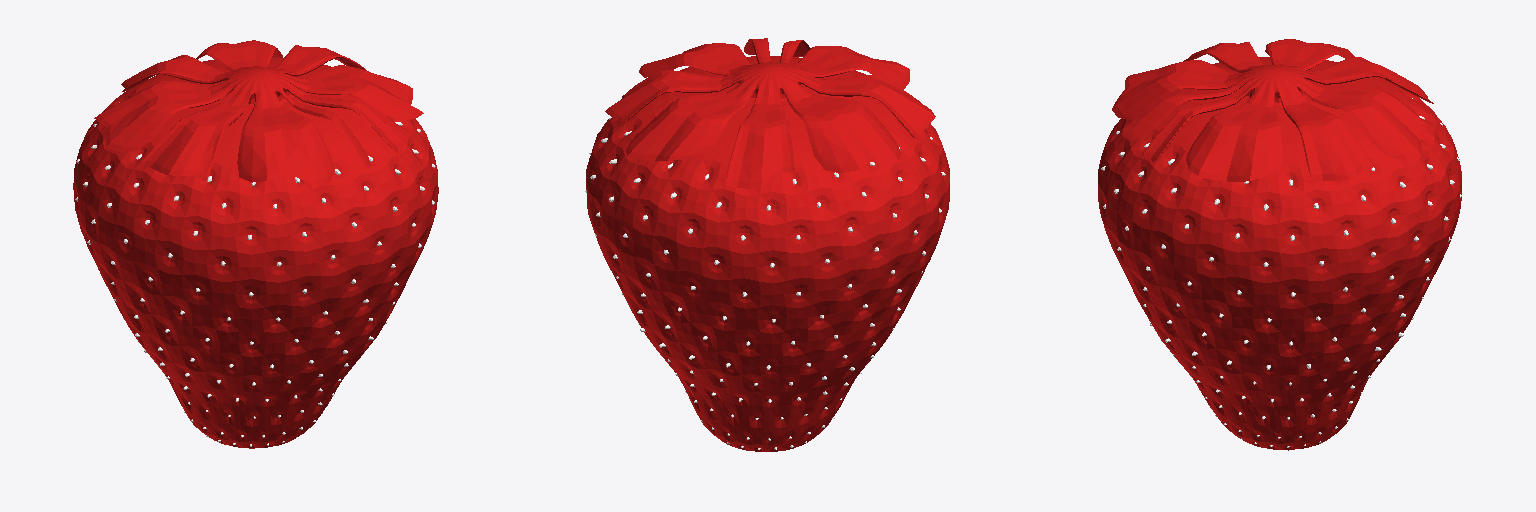
The model's file is Strawberry.obj.
The picture shows the model from 3 angles: view 1: azimuth 30°, elevation 25°; view 2: azimuth 150°, elevation 25°; view 3: azimuth 270°, elevation 25°; orthographic projection.
Parts seen in each view (by area): view 1: HyperNURBS, Seeds; view 2: HyperNURBS, Seeds; view 3: HyperNURBS, Seeds.
Boxes of the visible parts, x1=… form: HyperNURBS: x1=73, y1=40, x2=438, y2=448; Seeds: x1=75, y1=102, x2=435, y2=446; HyperNURBS: x1=586, y1=38, x2=949, y2=451; Seeds: x1=585, y1=117, x2=945, y2=449; HyperNURBS: x1=1098, y1=39, x2=1461, y2=450; Seeds: x1=1101, y1=98, x2=1461, y2=447.
Bounding box in the file's own units: 144 × 161 × 144.